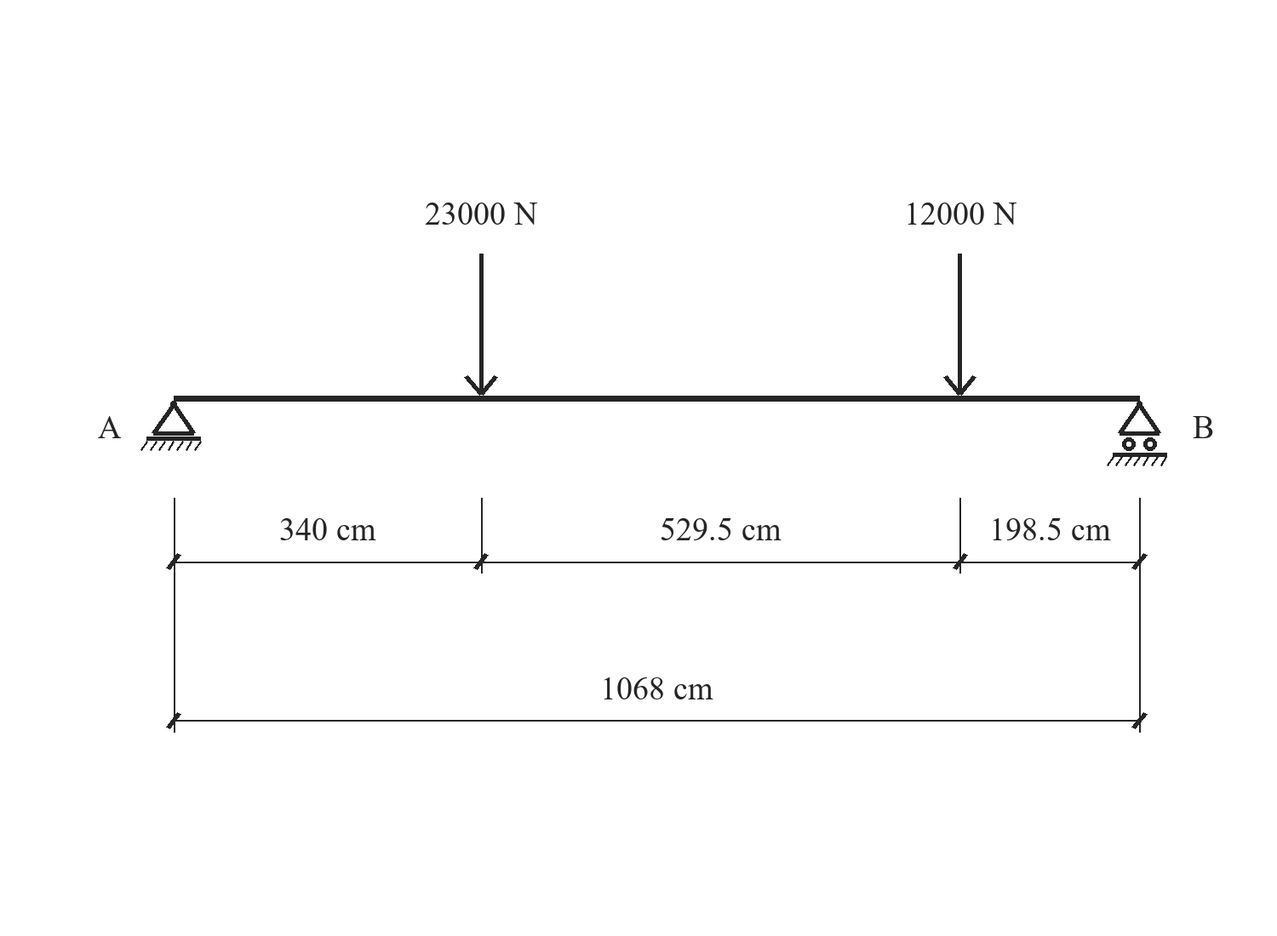pin_support: (140, 401, 202, 451)
point_load: (464, 254, 498, 396), (943, 254, 976, 396)
roller_support: (1107, 401, 1167, 466)
